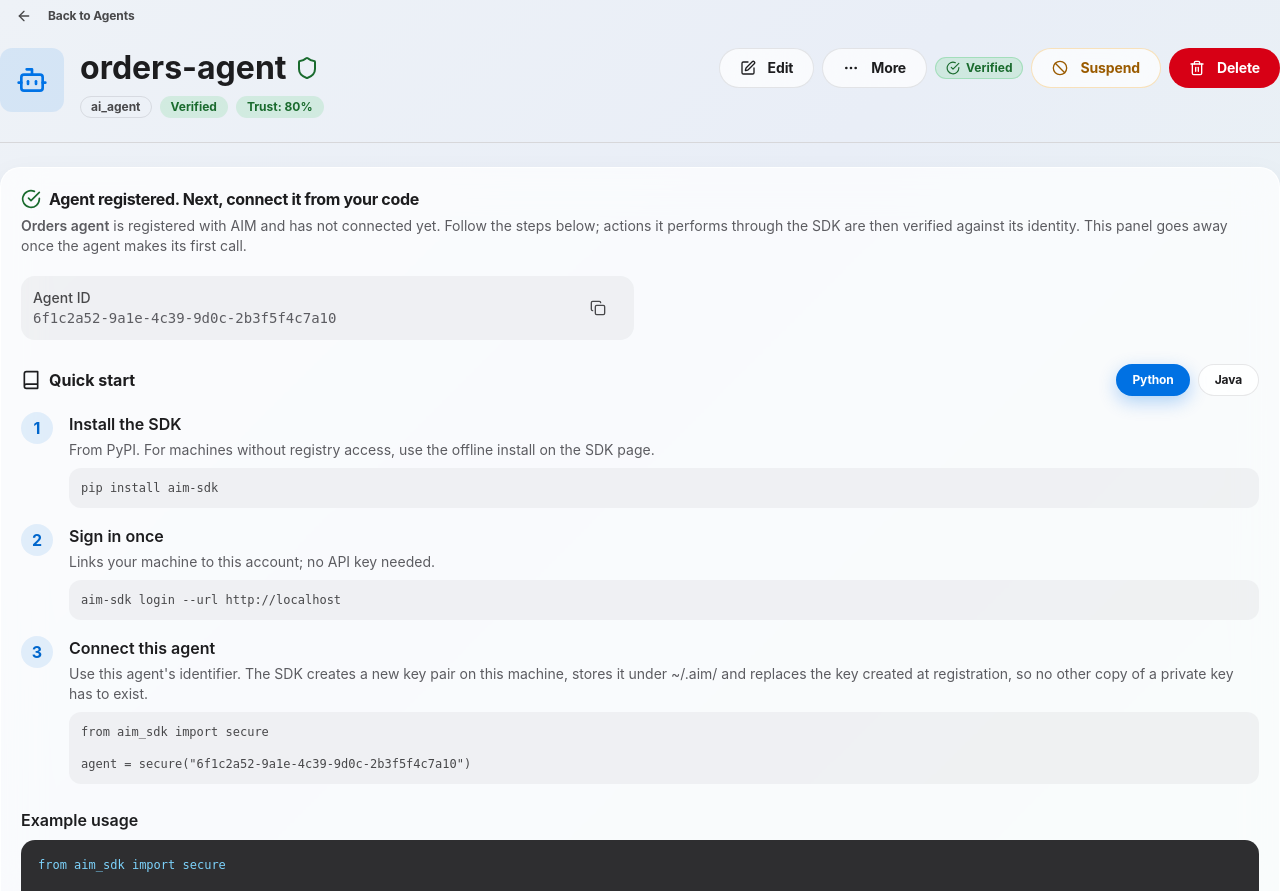
agent page lifecycle outcomes › reports a failed delete inside the delete dialog as a reason and a next step, without the server's text
The width and height of the screenshot is (1280, 891).
Click the button "Delete": [1224, 68] box x1=1169 y1=48 x2=1279 y2=88
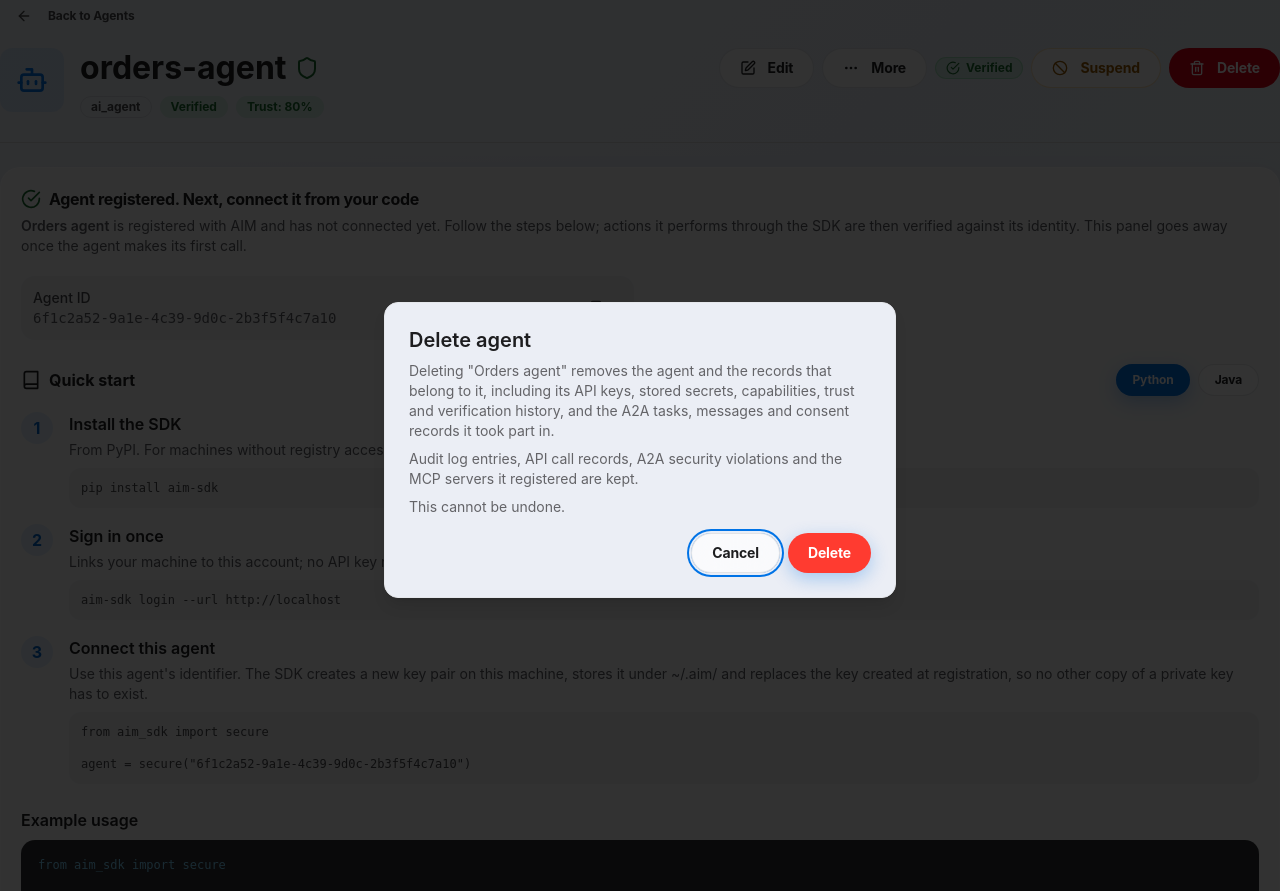
Click the button "Delete": [829, 553] box x1=788 y1=533 x2=871 y2=573
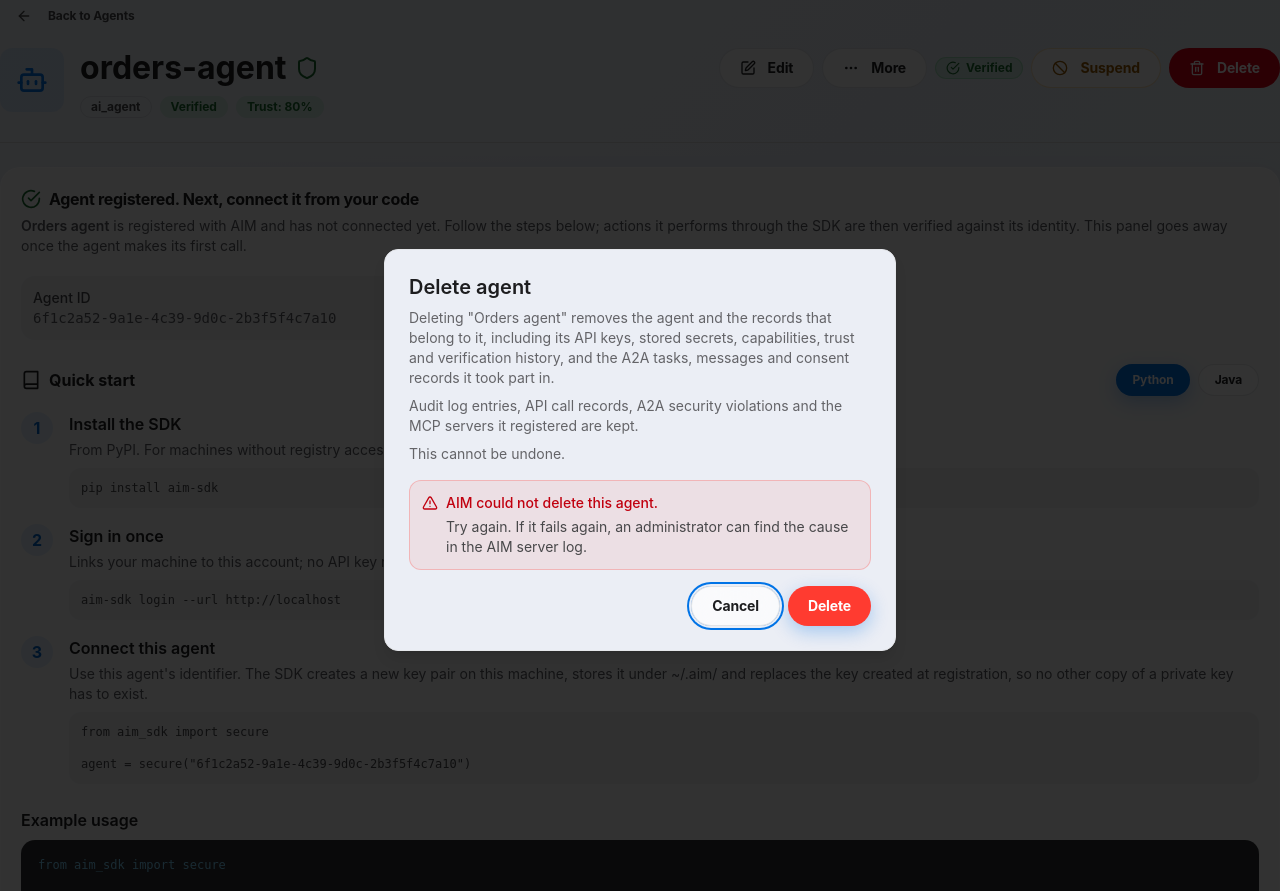
Now the text "AIM could not delete this agent." is shown, box x1=446 y1=494 x2=658 y2=511
Now the text "Try again. If it fails again, an administrator can find the cause in the AIM server log." is shown, box x1=446 y1=518 x2=848 y2=555
